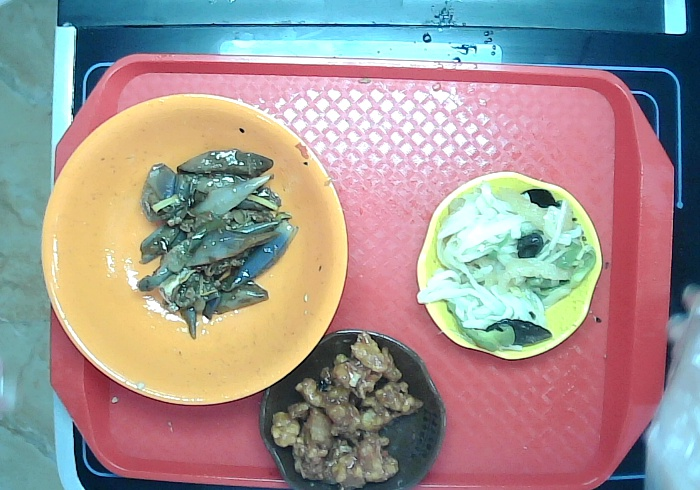YKMZ-Huang_Se_Ao_Bian_Wan: (415, 169, 603, 362)
YKMZ-Ju_Se_Tang_Wan: (38, 90, 352, 408)
YKMZ-Ka_Fei_Ao_Bian_Wan: (258, 330, 445, 490)
